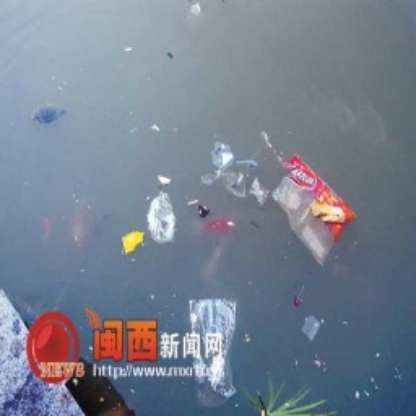plastic-bag: (270, 153, 357, 263), (148, 190, 179, 246)
